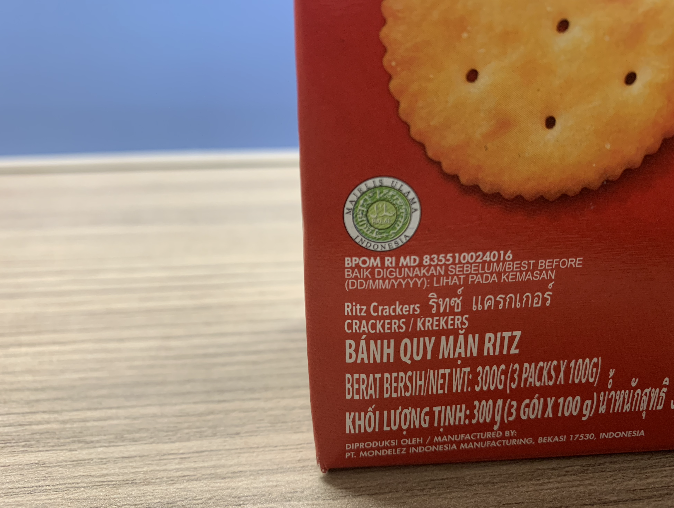halal: (359, 188, 404, 242)
